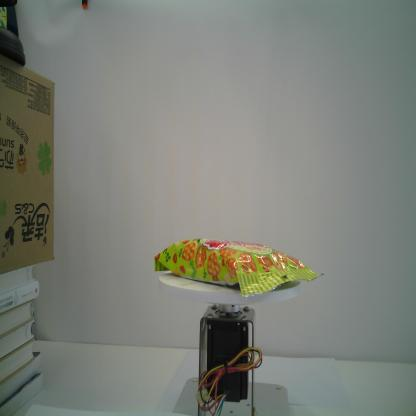Puffed Food: (153, 237, 325, 299)
